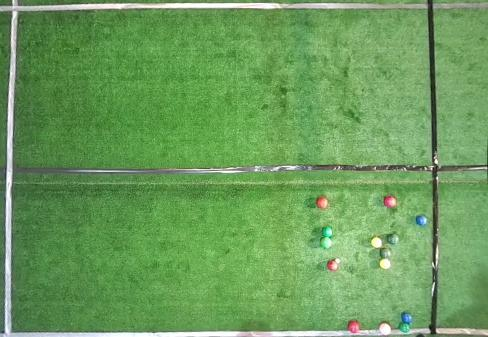blue: (416, 215, 429, 227), (401, 312, 414, 323)
green: (387, 234, 400, 245), (320, 237, 331, 249), (322, 226, 333, 237), (380, 248, 391, 258), (399, 323, 410, 332)
red: (348, 320, 360, 333), (379, 323, 391, 336), (384, 196, 397, 207), (317, 197, 328, 209), (328, 260, 338, 271)
vline: (427, 0, 487, 336), (0, 0, 19, 336)
white: (335, 258, 340, 263)
yellow: (370, 237, 382, 248), (380, 258, 391, 269)
